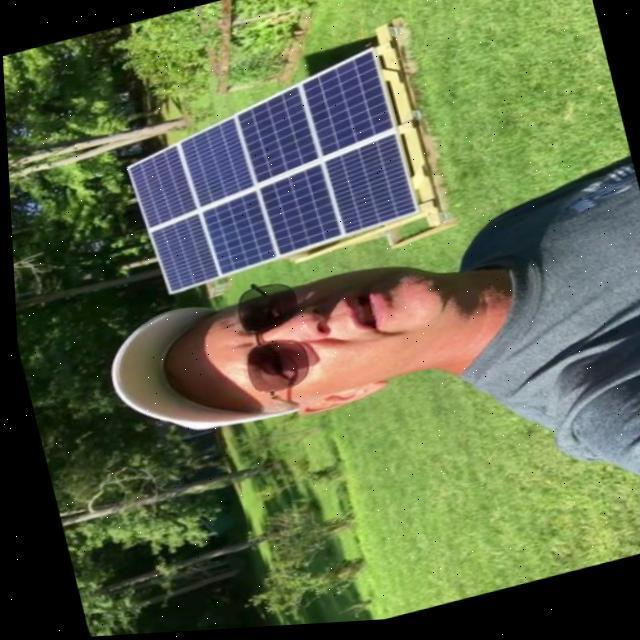Normal Solar Panel: (111, 46, 420, 298)
